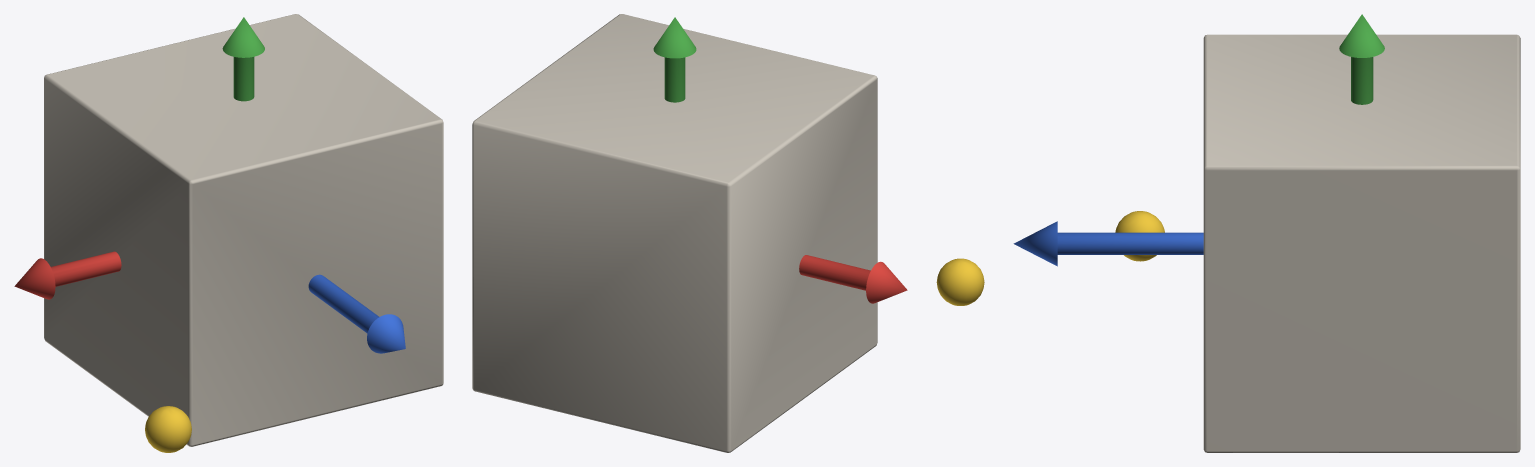
Rendered from calibration.fbx.
3 renders of one model, left to right at view 1: azimuth 30°, elevation 25°; view 2: azimuth 150°, elevation 25°; view 3: azimuth 270°, elevation 25°, orthographic. The views are drawn at different scales.
Parts seen in each view (by area): view 1: Cube, Arrow_Front, Arrow_Right, Arrow_Up, Marker; view 2: Cube, Arrow_Right, Arrow_Up, Marker; view 3: Cube, Arrow_Front, Arrow_Up, Marker.
Boxes of the visible parts, left/top/right/bottom form: Cube: left=44, top=14, right=443, bottom=446; Arrow_Front: left=308, top=274, right=405, bottom=353; Arrow_Right: left=14, top=251, right=121, bottom=299; Arrow_Up: left=222, top=17, right=264, bottom=101; Marker: left=145, top=406, right=191, bottom=452; Cube: left=472, top=14, right=877, bottom=452; Arrow_Right: left=799, top=255, right=907, bottom=303; Arrow_Up: left=653, top=17, right=696, bottom=102; Marker: left=936, top=258, right=984, bottom=305; Cube: left=1203, top=34, right=1520, bottom=452; Arrow_Front: left=1013, top=221, right=1203, bottom=266; Arrow_Up: left=1339, top=14, right=1384, bottom=104; Marker: left=1115, top=211, right=1164, bottom=261.
Bounding box in the file's own units: 1.4 × 1.3 × 1.6.
